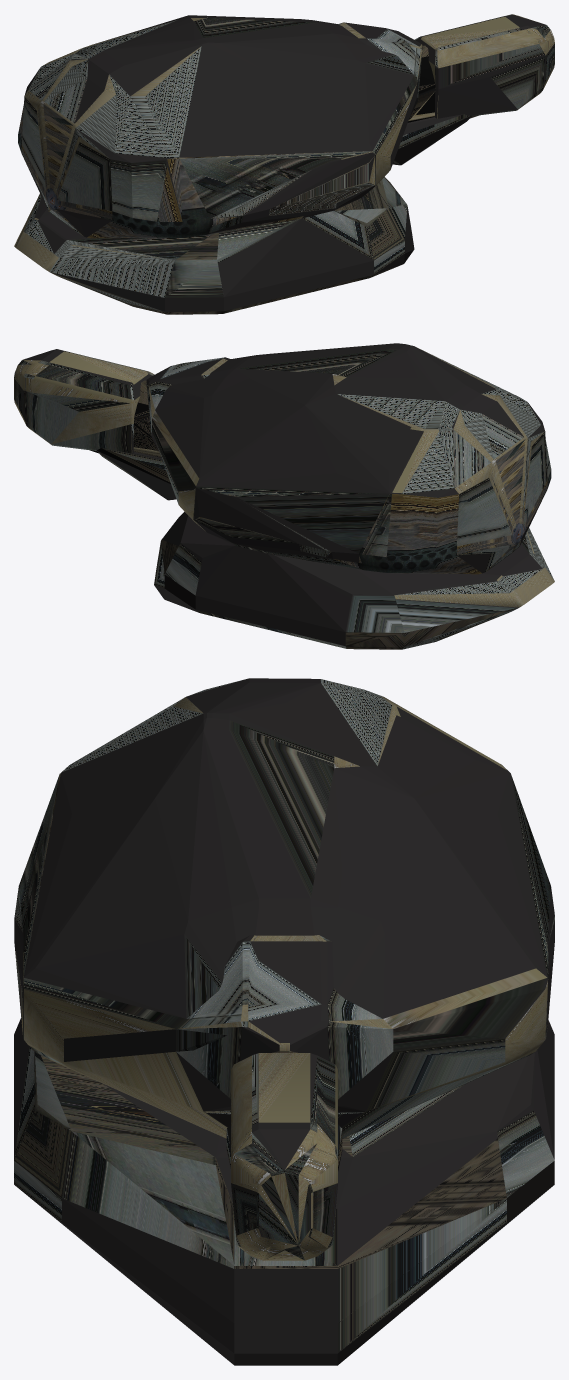
Rendered from mammoth_main_gun_physics.fbx.
3 views of the same model, one above another, from view 1: azimuth 30°, elevation 25°; view 2: azimuth 150°, elevation 25°; view 3: azimuth 270°, elevation 25° (orthographic). The views are drawn at different scales.
Visible parts, largest first — view 1: mammoth, mammoth.005, mammoth.002, mammoth.004, mammoth.003, mammoth.001; view 2: mammoth, mammoth.005, mammoth.002, mammoth.003, mammoth.004, mammoth.001; view 3: mammoth, mammoth.005, mammoth.004, mammoth.002.
Boxes of the visible parts, bbox=[...] form: mammoth: bbox=[18, 15, 420, 238]; mammoth.005: bbox=[14, 177, 414, 314]; mammoth.002: bbox=[414, 14, 554, 118]; mammoth.004: bbox=[338, 22, 422, 116]; mammoth.003: bbox=[393, 114, 471, 165]; mammoth.001: bbox=[408, 45, 478, 122]; mammoth: bbox=[152, 343, 551, 574]; mammoth.005: bbox=[154, 512, 554, 649]; mammoth.002: bbox=[14, 349, 154, 453]; mammoth.003: bbox=[96, 448, 176, 500]; mammoth.004: bbox=[146, 357, 230, 451]; mammoth.001: bbox=[90, 380, 161, 457]; mammoth: bbox=[14, 678, 554, 1138]; mammoth.005: bbox=[14, 1018, 554, 1365]; mammoth.004: bbox=[176, 935, 393, 1114]; mammoth.002: bbox=[231, 1053, 337, 1260].
Bounding box in the file's own units: 438 × 831 × 425.
